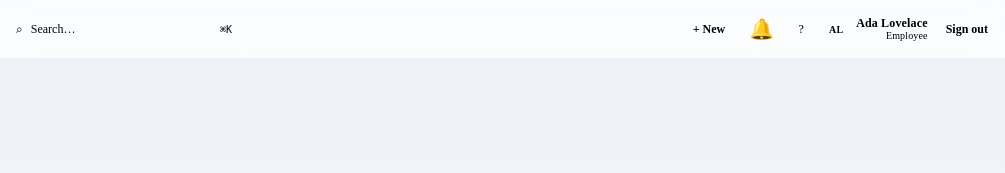
TopHeaderV2 › + New button surfaces the quick-create menu
Click the button "+ New": x=709, y=29 [683, 8, 735, 50]
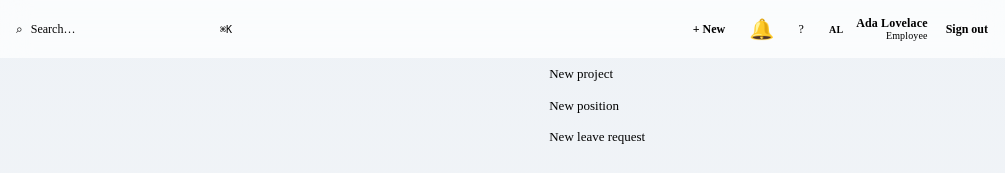
Result: the menu is shown at [535, 54, 735, 156]
Result: the menu item "New project" is shown at [539, 58, 731, 90]
Result: the menu item "New position" is shown at [539, 90, 731, 121]
